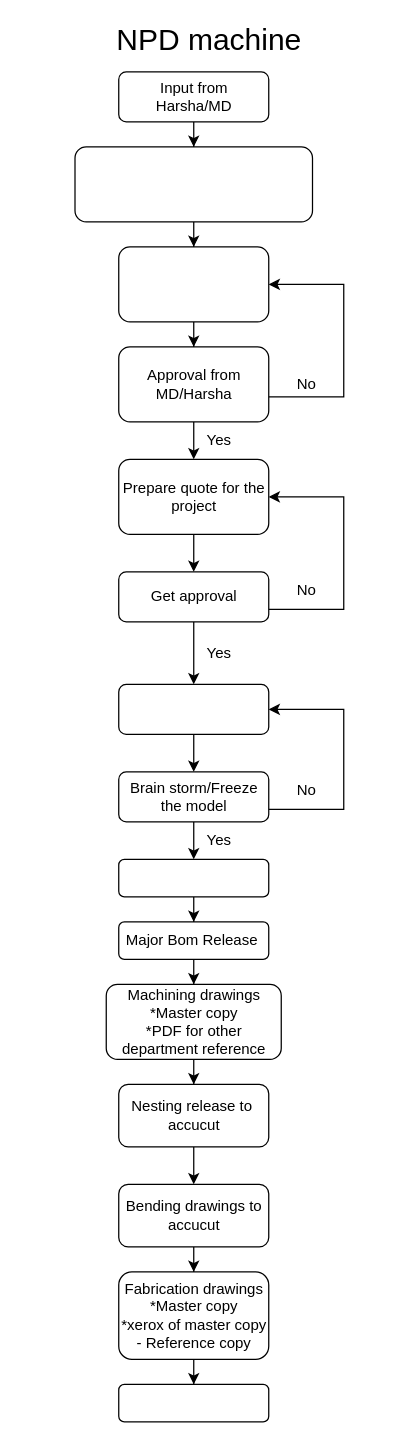
Image size: 418x1444. Some labels were removed from this diagram. Here are the shapes that lost their labels. From the top down, the box of each, then its label:
(74, 146, 312, 222): Fill customized machine details input form
(118, 246, 269, 322): Prepare 2D layout/ Sketches/Concept
(118, 683, 269, 734): Modelling
(118, 858, 269, 897): Renaming
(118, 1383, 269, 1422): Minor Bom Release
